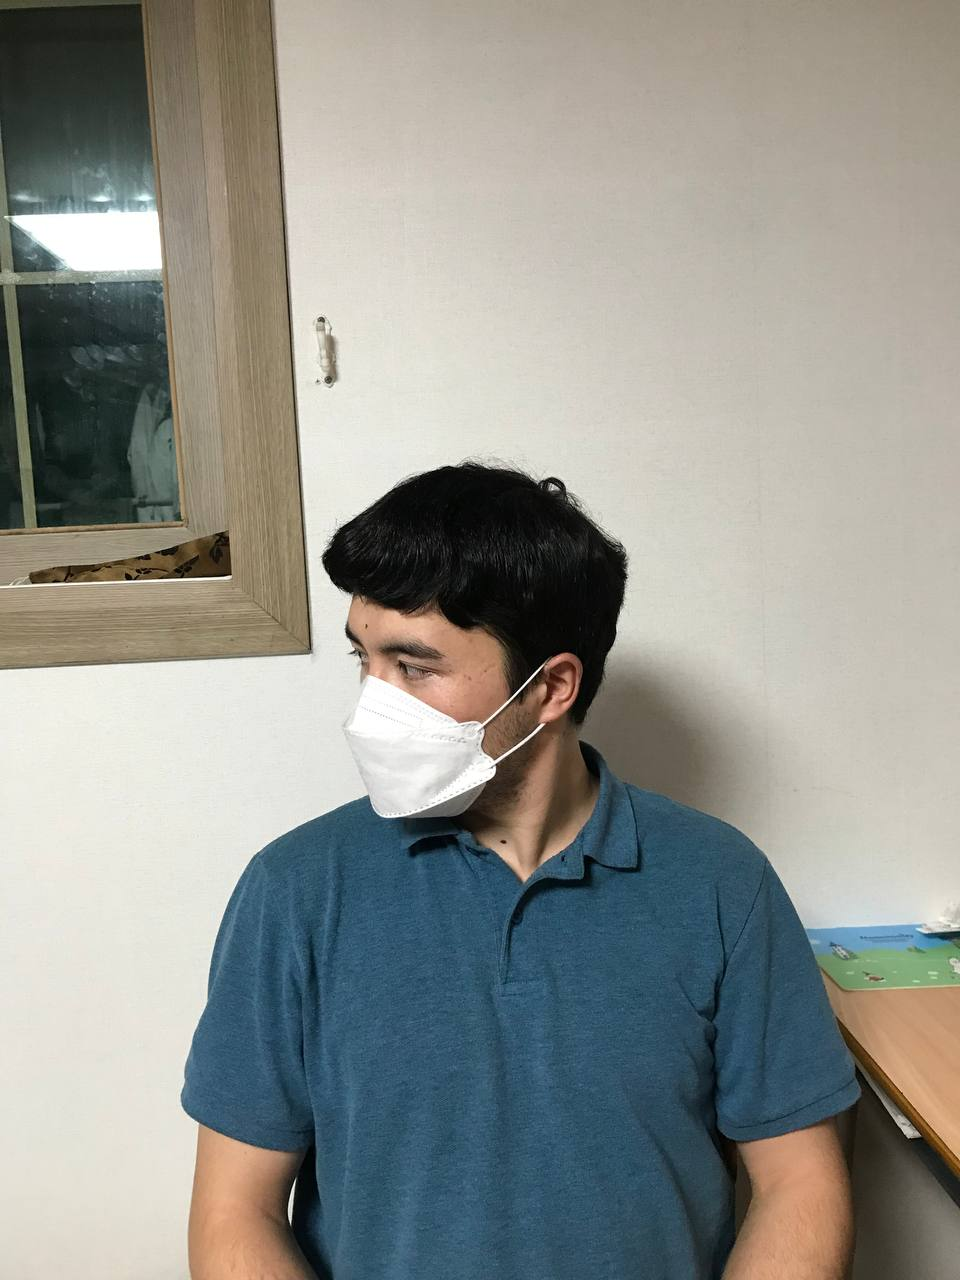Mask: (337, 678, 593, 818)
